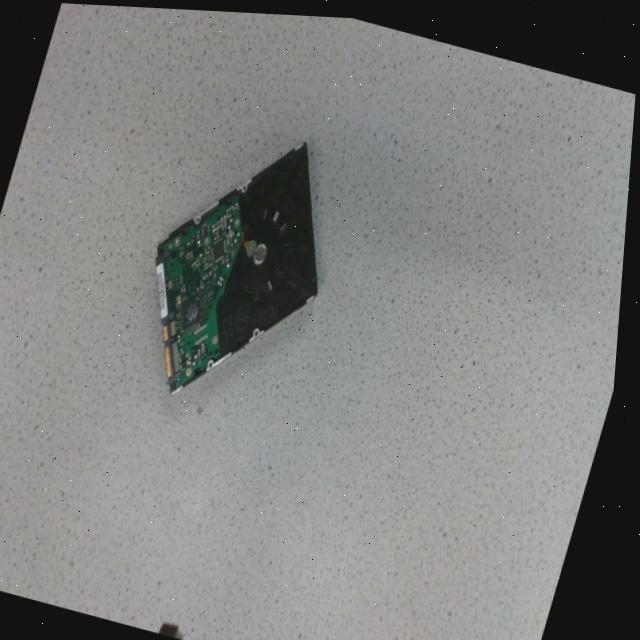case: (159, 139, 321, 391)
pcb: (167, 190, 246, 384)
screw: (206, 232, 214, 244), (216, 331, 223, 341), (237, 214, 243, 225), (190, 365, 197, 374), (177, 234, 183, 244)
